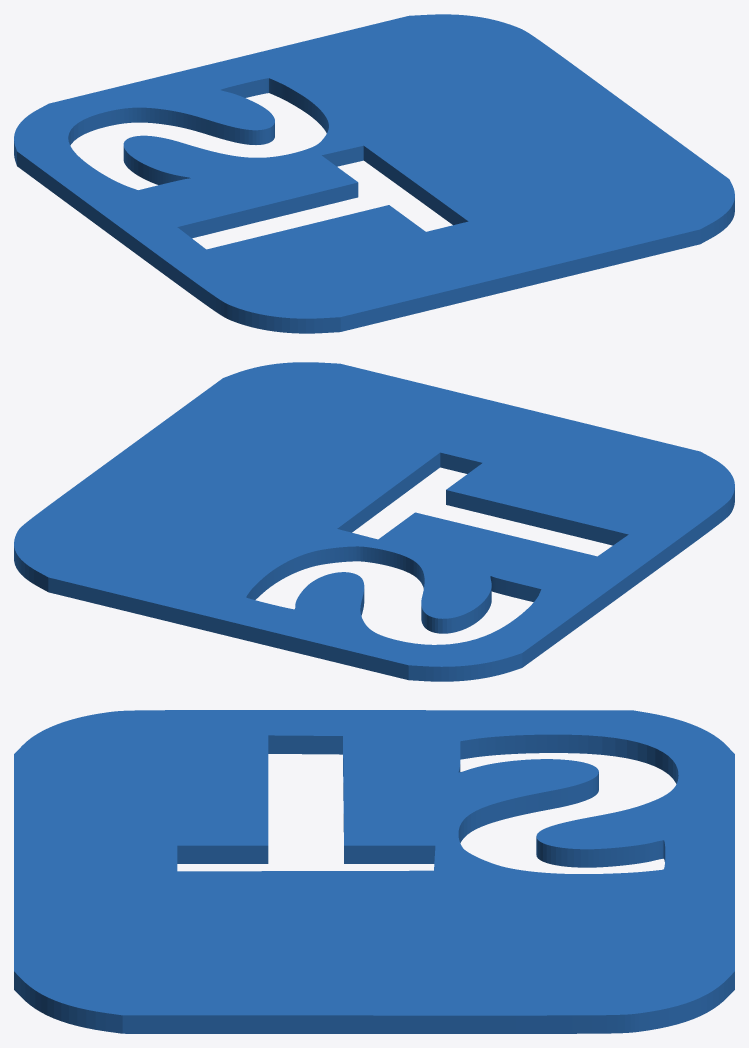
Rendered from typescript.glb.
3 renders of one model, top to bottom at view 1: azimuth 30°, elevation 25°; view 2: azimuth 150°, elevation 25°; view 3: azimuth 270°, elevation 25°, orthographic. The views are drawn at different scales.
Parts seen in each view (by area): view 1: Curve; view 2: Curve; view 3: Curve.
Boxes of the visible parts, x1,y1,x2,y2 form: Curve: [14, 14, 734, 333]; Curve: [14, 362, 734, 681]; Curve: [14, 710, 734, 1033].
Bounding box in the file's own units: 3.15 × 0.0886 × 3.14.
